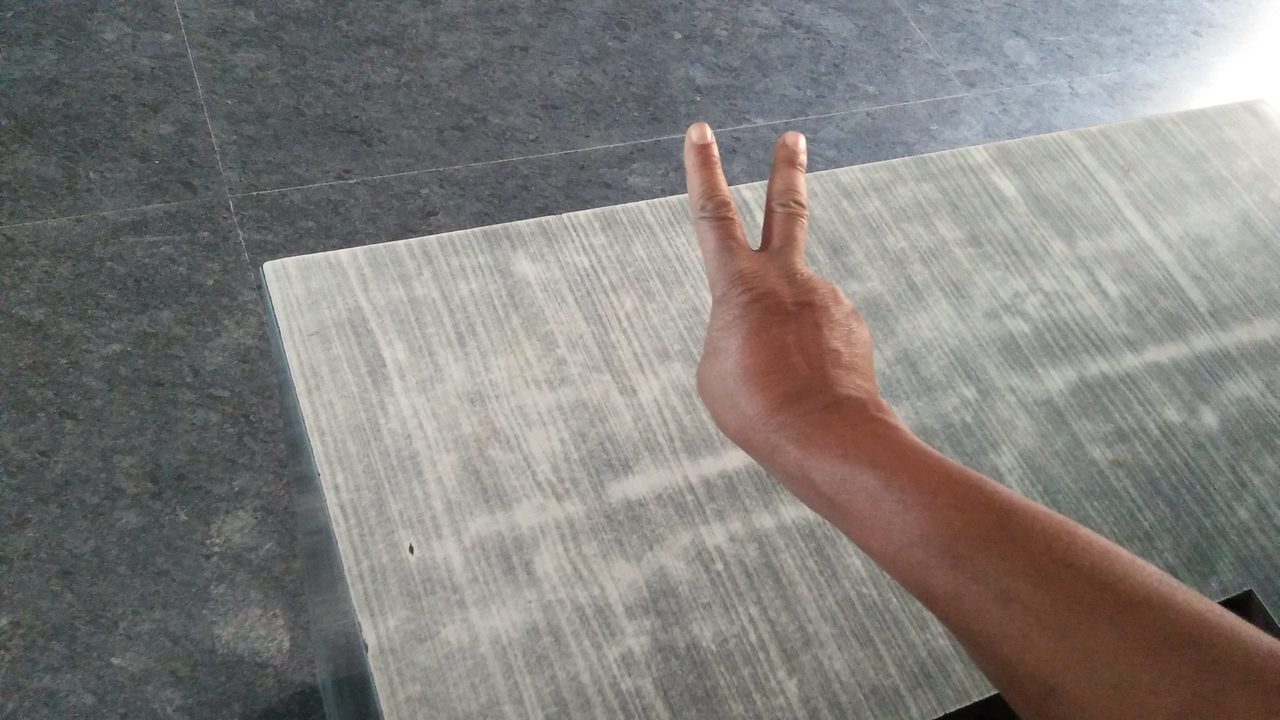fingertip: (766, 120, 818, 162), (678, 108, 728, 150)
